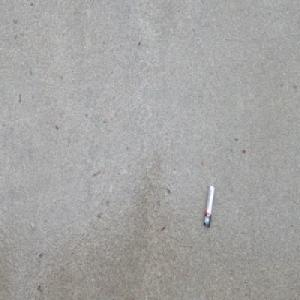Battery: (202, 183, 215, 229)
